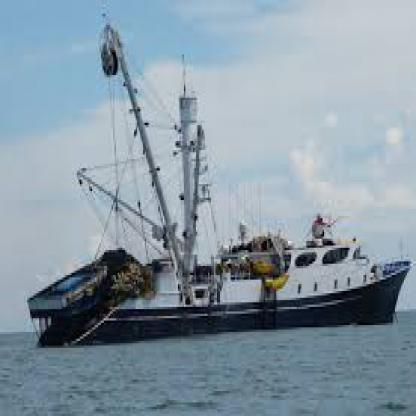Ship: (63, 15, 416, 347)
